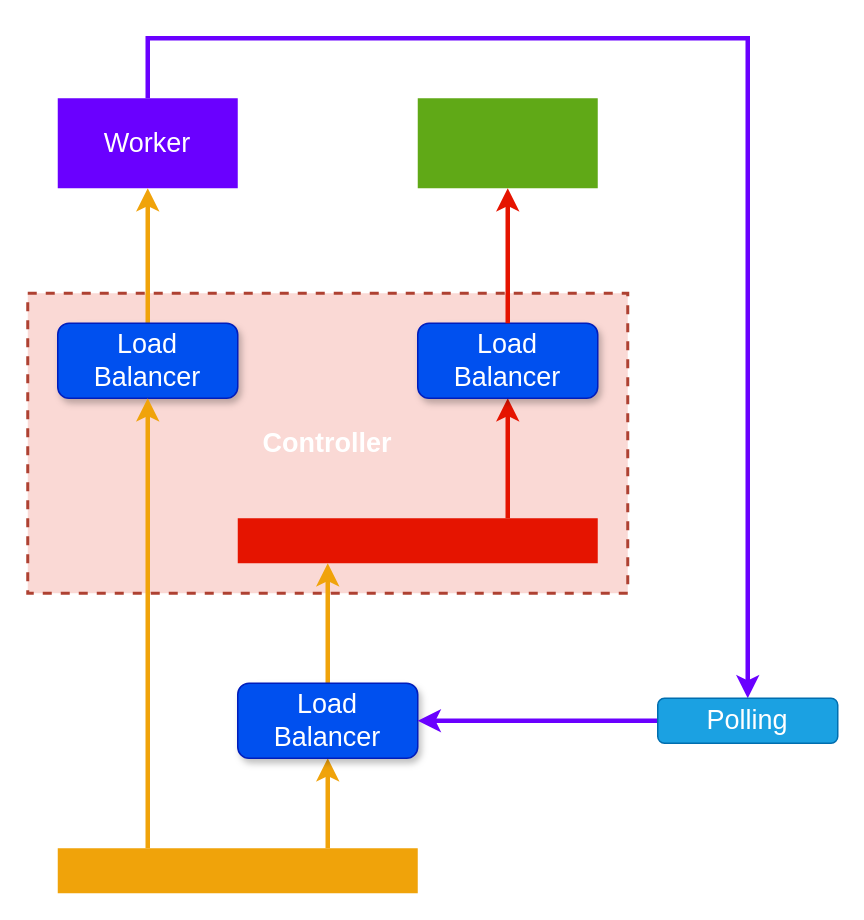
Image size: 864x920. Some labels were removed from this diagram. The centre of each missing label's shape, as x and y in pixels:
API-Server: point (417, 540)
Client: point (237, 870)
ETCD: point (507, 143)
